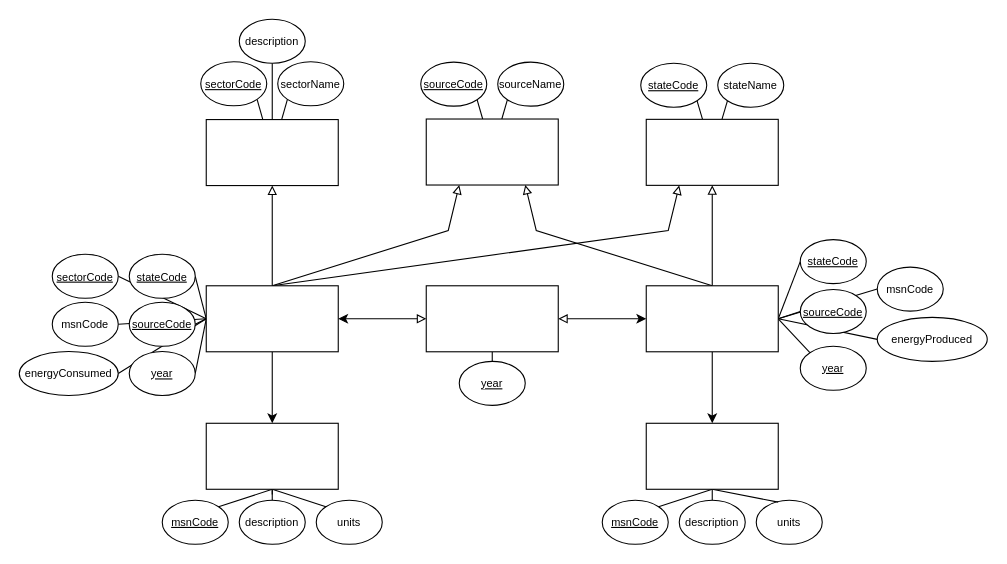
This 1007x564 diagram has some shape labels left out. Each missing label, with the box of its shape:
ConCodes: (205, 422, 338, 489)
Consumption: (205, 285, 338, 352)
ProdCodes: (645, 422, 778, 489)
Production: (645, 285, 778, 352)
Sectors: (205, 118, 338, 186)
Sources: (425, 118, 558, 185)
States: (645, 118, 778, 185)
Years: (425, 285, 558, 352)
